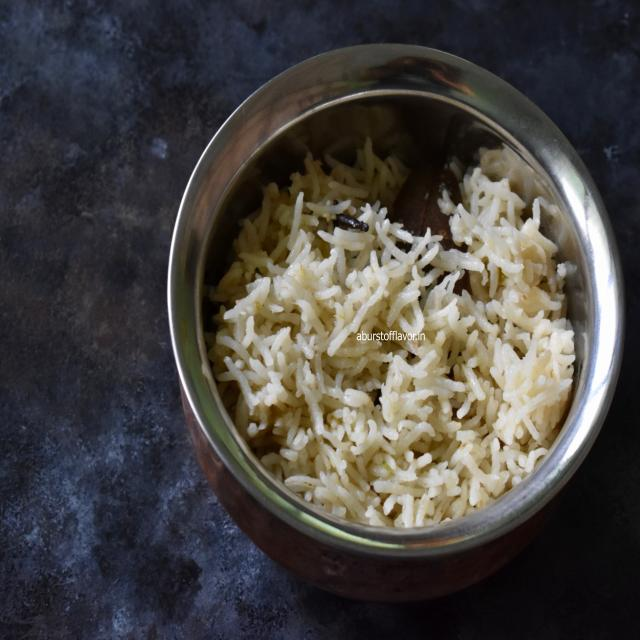nei satham: (179, 88, 610, 562)
